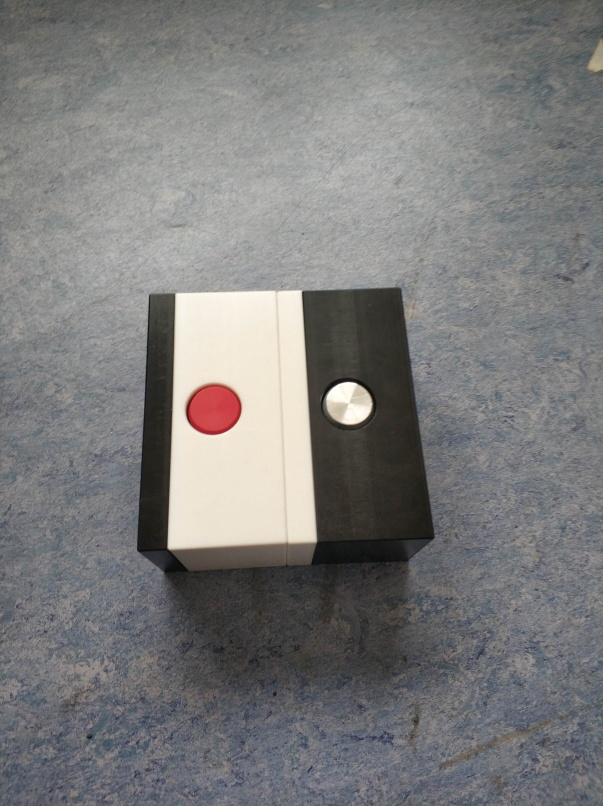black+white+red: (132, 278, 288, 583)
white+black+silver: (278, 288, 438, 574)
